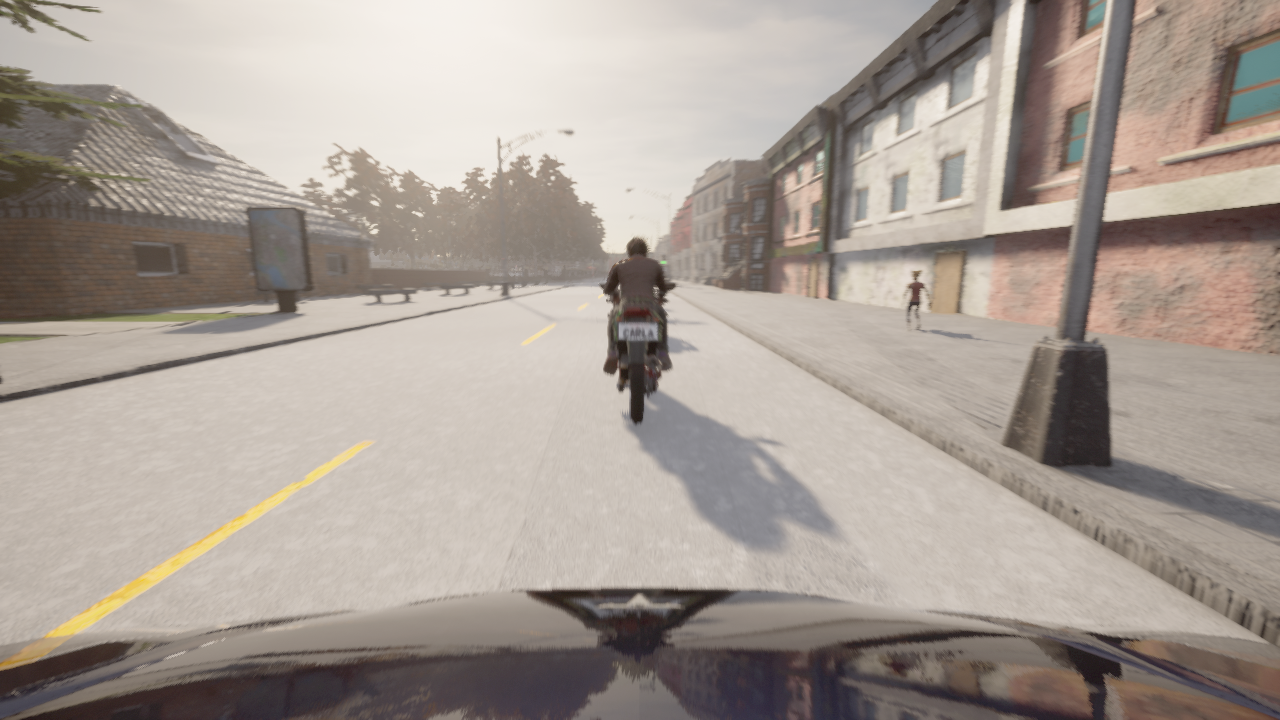cyclist: (0, 588, 1279, 719), (599, 283, 676, 424)
pedestrian: (902, 271, 930, 331)
